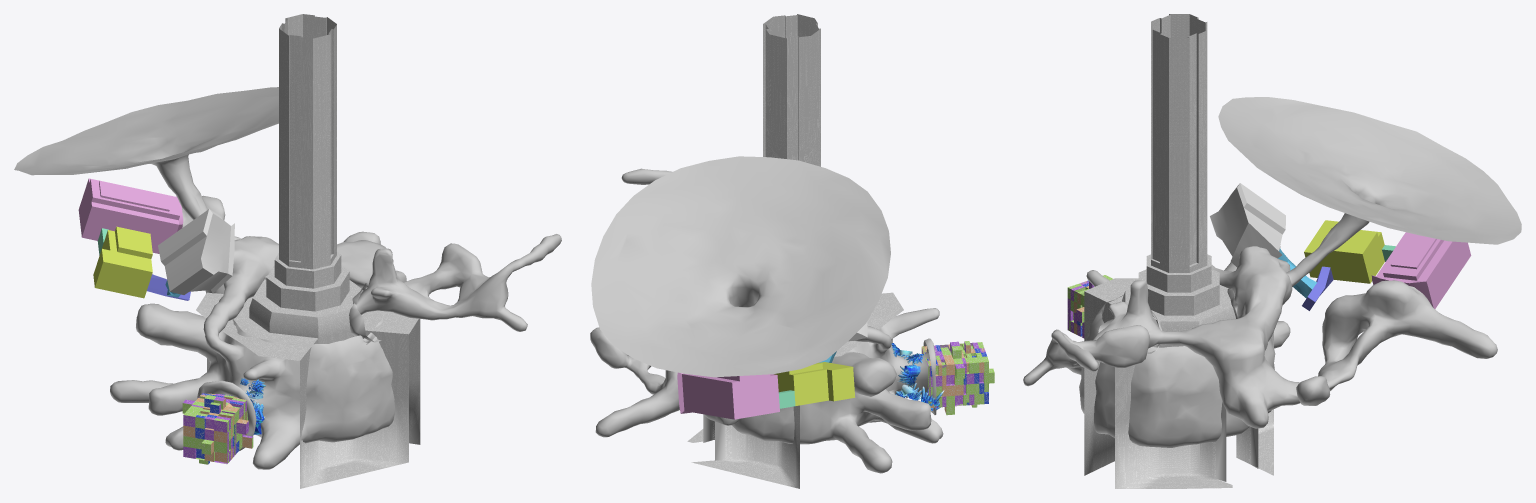
File: Chapter2.fbx
3 views of the same model, side by side, from view 1: azimuth 30°, elevation 25°; view 2: azimuth 150°, elevation 25°; view 3: azimuth 270°, elevation 25° (orthographic).
Visible parts, largest first — view 1: CaveBaseCh2, Tunnel, CaveBaseCh2Reversed, Rooms, TunnelReversed, Chamber, RoomsReversed, ChamberReversed; view 2: CaveBaseCh2, CaveBaseCh2Reversed, Tunnel, Rooms, Chamber, TunnelReversed, RoomsReversed, ChamberReversed; view 3: CaveBaseCh2, Tunnel, CaveBaseCh2Reversed, Rooms, TunnelReversed, RoomsReversed, RoomEntries, Chamber.
Boxes of the visible parts, x1,y1,x2,y2 form: CaveBaseCh2: [14, 87, 561, 469]; Tunnel: [196, 14, 420, 488]; CaveBaseCh2Reversed: [17, 88, 561, 469]; Rooms: [78, 178, 230, 300]; TunnelReversed: [196, 15, 420, 486]; Chamber: [182, 393, 253, 464]; RoomsReversed: [79, 179, 230, 300]; ChamberReversed: [183, 394, 252, 464]; CaveBaseCh2: [590, 156, 943, 473]; CaveBaseCh2Reversed: [591, 156, 941, 473]; Tunnel: [687, 14, 903, 488]; Rooms: [682, 321, 867, 419]; Chamber: [921, 341, 994, 415]; TunnelReversed: [690, 15, 902, 487]; RoomsReversed: [682, 322, 867, 418]; ChamberReversed: [922, 341, 994, 414]; CaveBaseCh2: [1023, 97, 1521, 447]; Tunnel: [1084, 14, 1273, 488]; CaveBaseCh2Reversed: [1024, 97, 1521, 447]; Rooms: [1210, 183, 1471, 310]; TunnelReversed: [1084, 14, 1273, 488]; RoomsReversed: [1211, 184, 1470, 310]; RoomEntries: [1230, 223, 1433, 307]; Chamber: [1067, 275, 1112, 338].
Bounding box in the file's own units: 50532 × 51977 × 55419.
